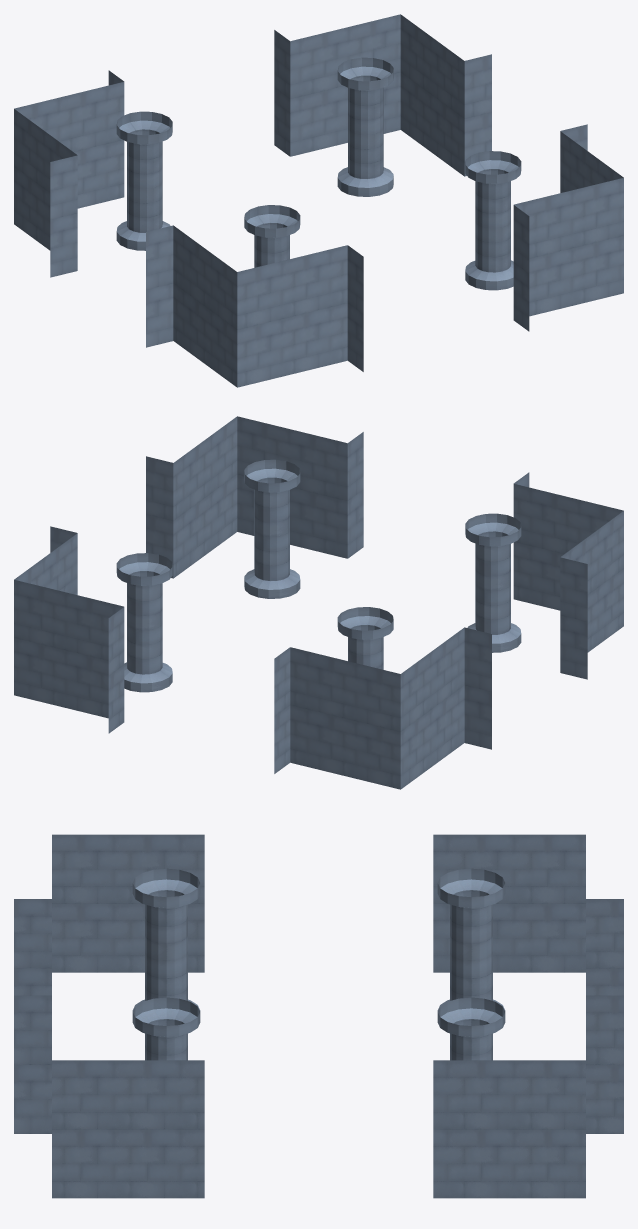
File: TileOccultRoom.fbx
3 views of the same model, one above another, from view 1: azimuth 30°, elevation 25°; view 2: azimuth 150°, elevation 25°; view 3: azimuth 270°, elevation 25° (orthographic). The views are drawn at different scales.
Visible parts, largest first — view 1: TileOccultRoom; view 2: TileOccultRoom; view 3: TileOccultRoom.
Boxes of the visible parts, x1,y1,x2,y2 form: TileOccultRoom: (14,14,623,387); TileOccultRoom: (14,416,623,789); TileOccultRoom: (14,834,623,1198).
Bounding box in the file's own units: 16 × 4 × 16.
